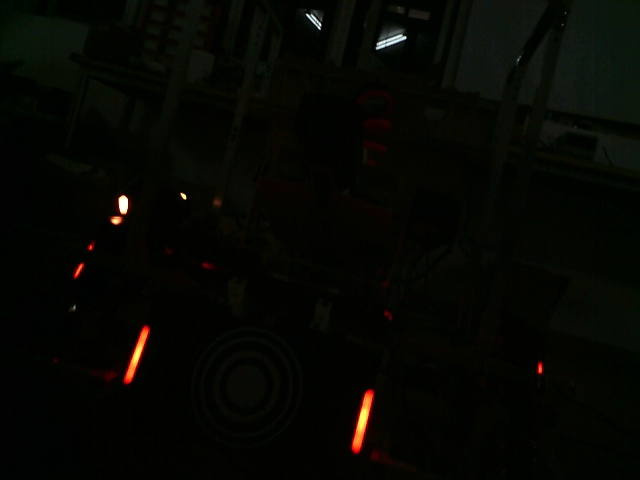lamp: (122, 323, 152, 389), (350, 386, 376, 455)
